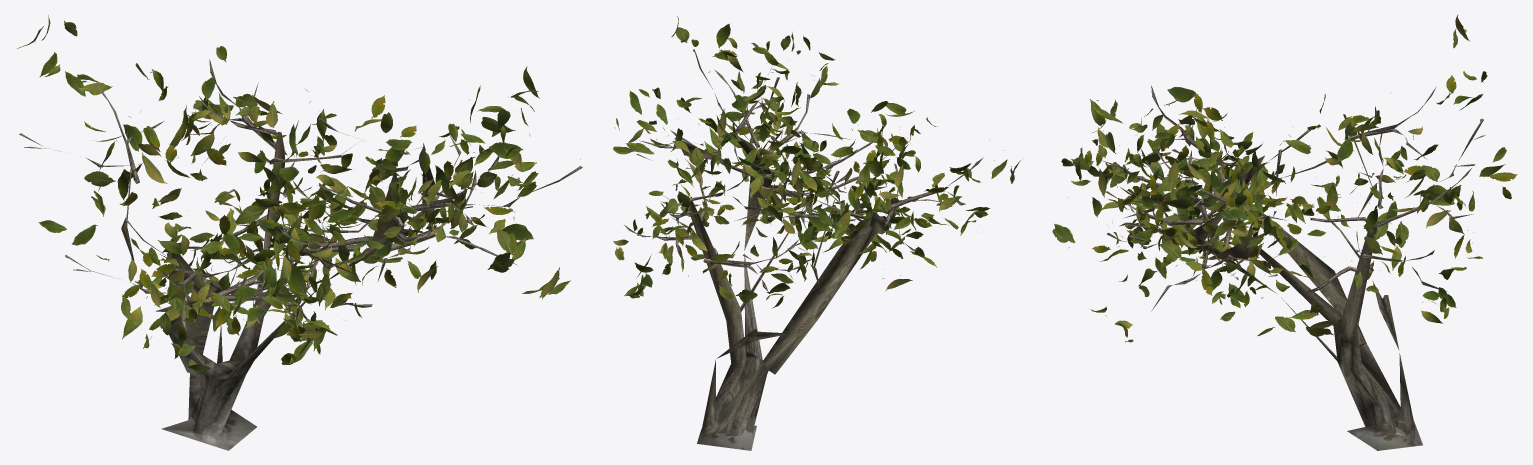
Rendered from ph-island-tree-02.lod1.glb.
3 views of the same model, side by side, from view 1: azimuth 30°, elevation 25°; view 2: azimuth 150°, elevation 25°; view 3: azimuth 270°, elevation 25° (orthographic). The views are drawn at different scales.
Parts seen in each view (by area): view 1: island_tree_02_LOD0; view 2: island_tree_02_LOD0; view 3: island_tree_02_LOD0.
Part boxes in pixels (<box>): island_tree_02_LOD0: <box>17,15,582,450</box>; island_tree_02_LOD0: <box>613,16,1020,450</box>; island_tree_02_LOD0: <box>1052,15,1517,450</box>.
Size of the model in its own units: 3.79 by 3.48 by 4.01.
3 materials, 3 textured.
